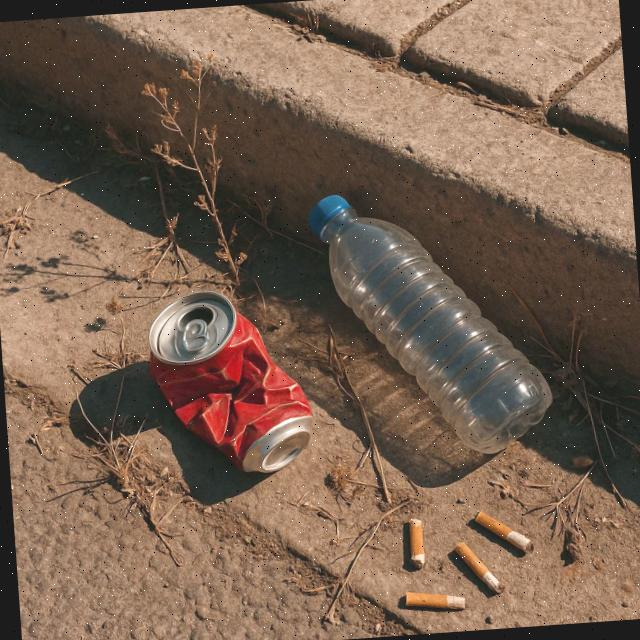aluminum: (137, 278, 320, 482)
plastic: (312, 181, 558, 465)
